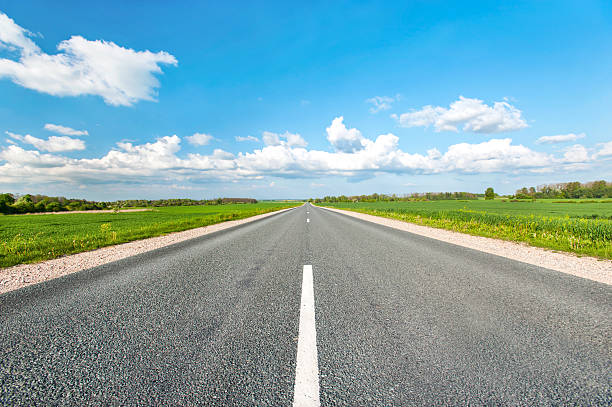straightRoad: (184, 188, 446, 407)
